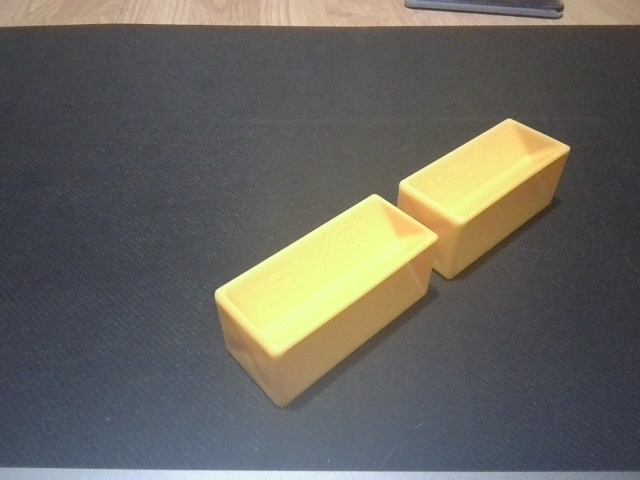YellowSample: (206, 191, 442, 413), (394, 113, 573, 282)
